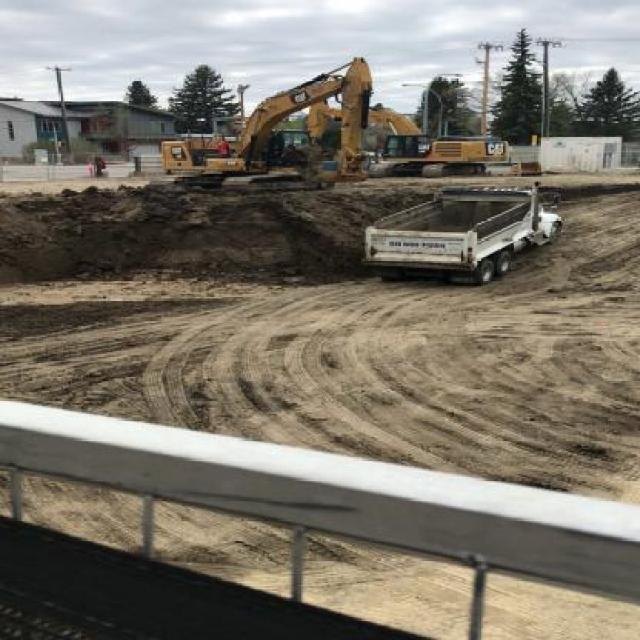Dump Truck: (366, 185, 571, 286)
Excavator: (152, 60, 383, 191), (370, 103, 515, 183)
